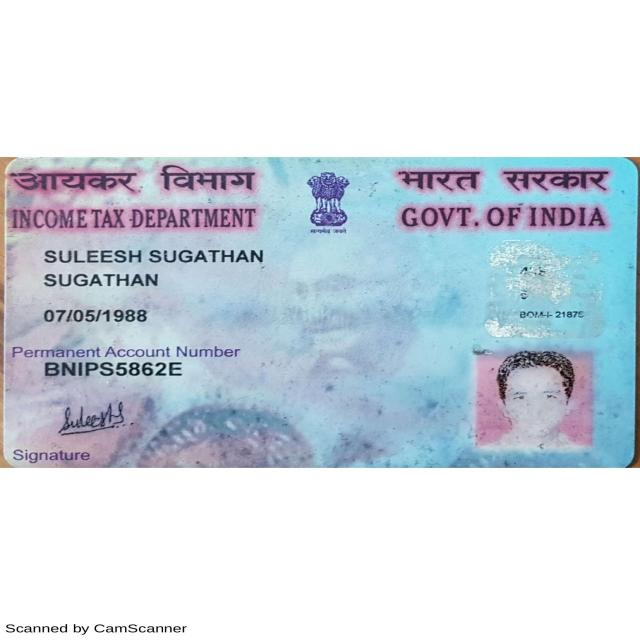pan_card: (4, 157, 640, 467)
